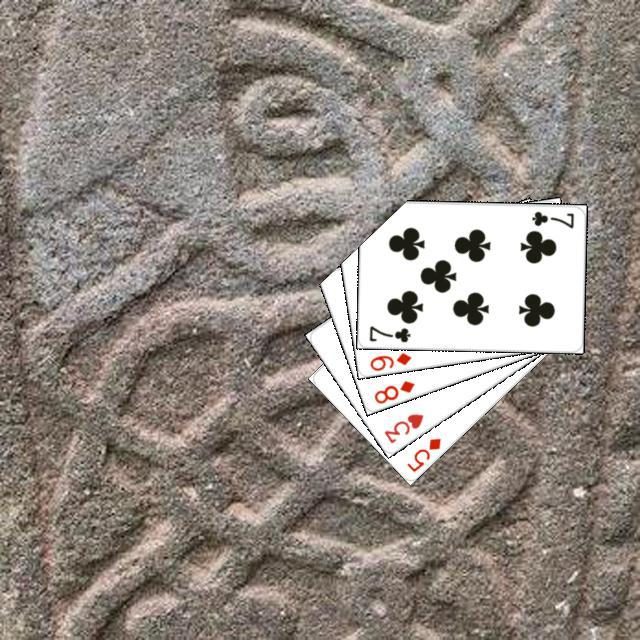3h: (379, 408, 425, 445)
5d: (402, 433, 442, 473)
7c: (364, 321, 412, 344), (527, 207, 575, 230)
8d: (369, 375, 416, 405)
9d: (365, 348, 413, 372)
